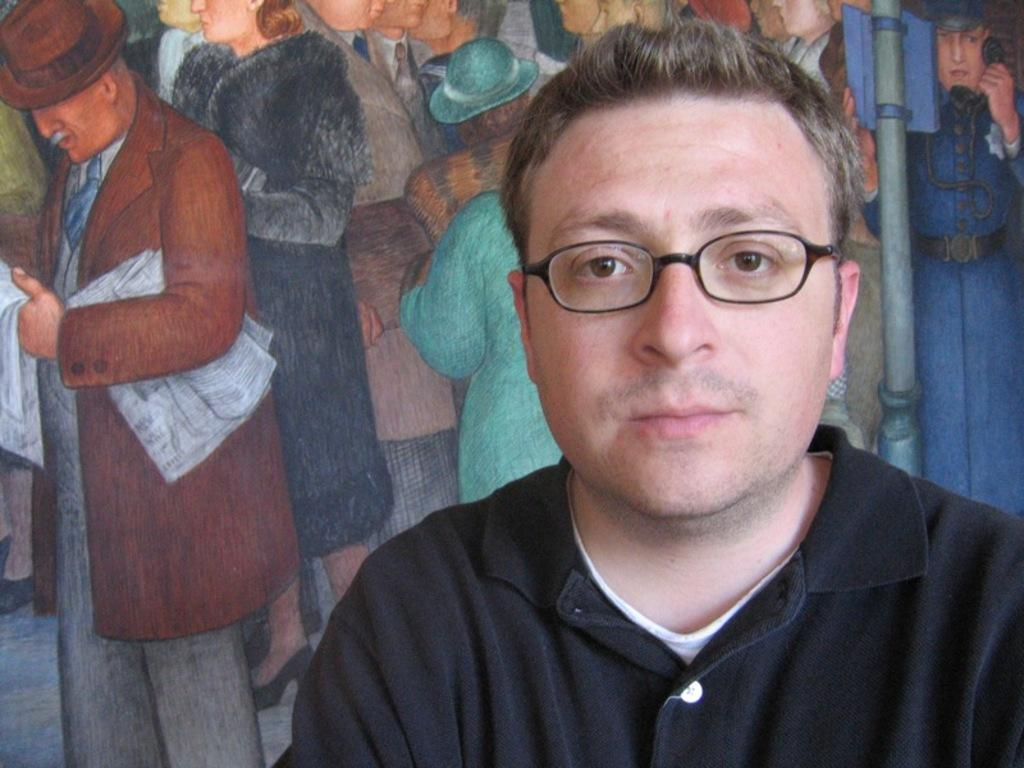Hat: (0, 0, 133, 112), (429, 36, 539, 122), (912, 0, 979, 33)
